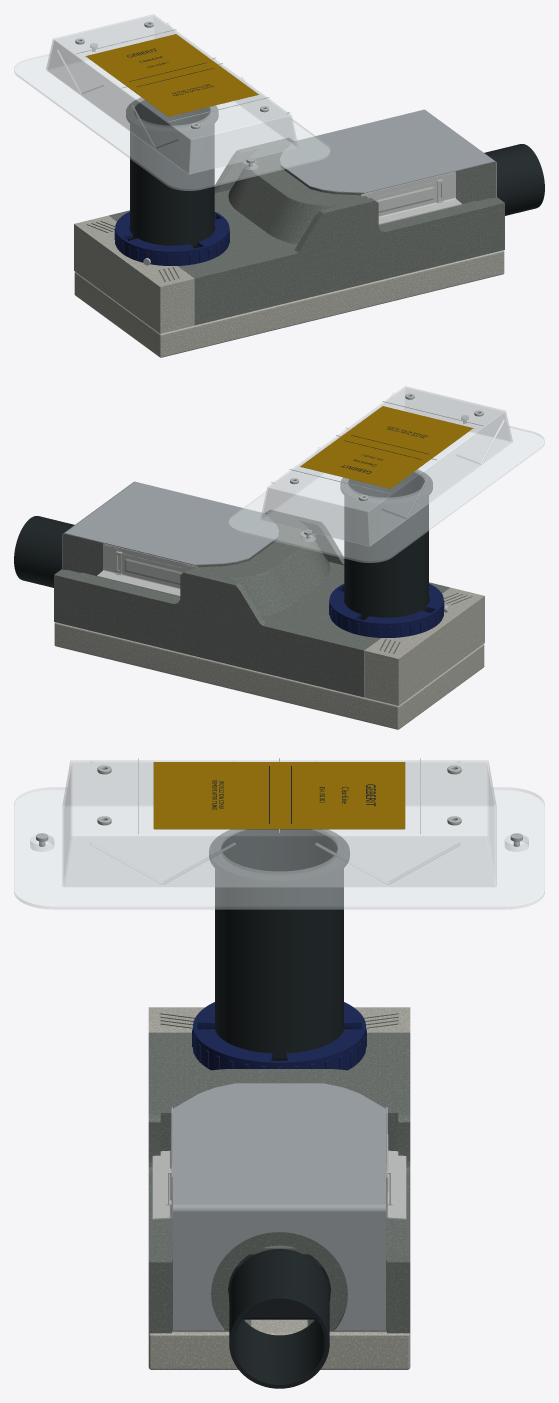
The model's file is cleanline.glb.
3 views of the same model, one above another, from view 1: azimuth 30°, elevation 25°; view 2: azimuth 150°, elevation 25°; view 3: azimuth 270°, elevation 25° (orthographic). The views are drawn at different scales.
Visible parts, largest first — view 1: Acoustic body, Bonding flange • rounded perimeter, Transparent construction cover, Service cover, Inlet riser • H1 170 mm, Distance plate • 300 × 130 × 20 mm, Yellow construction instruction label, Outlet • OD 50 mm, R02 blue lockring stepped body, R13 near stepped embossed backplate, R05 EPS hood backing, Riser lip (+1 smaller); view 2: Acoustic body, Bonding flange • rounded perimeter, Transparent construction cover, Service cover, Inlet riser • H1 170 mm, Distance plate • 300 × 130 × 20 mm, Yellow construction instruction label, Outlet • OD 50 mm, R02 blue lockring stepped body, R13 far stepped embossed backplate, R05 EPS hood backing, Riser lip (+1 smaller); view 3: Bonding flange • rounded perimeter, Service cover, Transparent construction cover, Inlet riser • H1 170 mm, Acoustic body, Yellow construction instruction label, Outlet • OD 50 mm, Distance plate • 300 × 130 × 20 mm, R02 blue lockring stepped body, Riser lip, R13 far stepped embossed backplate, R13 near stepped embossed backplate (+1 smaller).
Boxes of the visible parts, x1,y1,x2,y2 form: Acoustic body: (74, 138, 504, 333); Bonding flange • rounded perimeter: (14, 54, 330, 190); Transparent construction cover: (46, 14, 298, 174); Service cover: (280, 109, 496, 197); Inlet riser • H1 170 mm: (130, 99, 214, 246); Distance plate • 300 × 130 × 20 mm: (74, 250, 504, 357); Yellow construction instruction label: (85, 34, 258, 116); Outlet • OD 50 mm: (484, 144, 544, 215); R02 blue lockring stepped body: (115, 211, 229, 265); R13 near stepped embossed backplate: (361, 172, 461, 224); R05 EPS hood backing: (279, 160, 496, 203); Riser lip: (126, 97, 218, 134); Acoustic body: (54, 510, 484, 705); Bonding flange • rounded perimeter: (228, 426, 544, 562); Transparent construction cover: (260, 386, 512, 546); Service cover: (62, 481, 278, 569); Inlet riser • H1 170 mm: (344, 471, 428, 618); Distance plate • 300 × 130 × 20 mm: (54, 622, 484, 729); Yellow construction instruction label: (300, 406, 473, 488); Outlet • OD 50 mm: (14, 516, 74, 587); R02 blue lockring stepped body: (329, 583, 443, 637); R13 far stepped embossed backplate: (97, 544, 197, 596); R05 EPS hood backing: (62, 532, 279, 575); Riser lip: (340, 469, 432, 506); Bonding flange • rounded perimeter: (14, 787, 544, 909); Service cover: (173, 1083, 385, 1330); Transparent construction cover: (62, 760, 496, 886); Inlet riser • H1 170 mm: (215, 829, 343, 1058); Acoustic body: (148, 1007, 410, 1333); Yellow construction instruction label: (153, 762, 405, 829); Outlet • OD 50 mm: (229, 1249, 329, 1388); Distance plate • 300 × 130 × 20 mm: (148, 1319, 410, 1369); R02 blue lockring stepped body: (193, 1002, 365, 1070); Riser lip: (209, 829, 349, 885); R13 far stepped embossed backplate: (386, 1108, 406, 1219); R13 near stepped embossed backplate: (152, 1108, 172, 1219).
Size of the model in its own units: 0.38 by 0.1991 by 0.264.
Materials: 14 (3 with a texture image).
